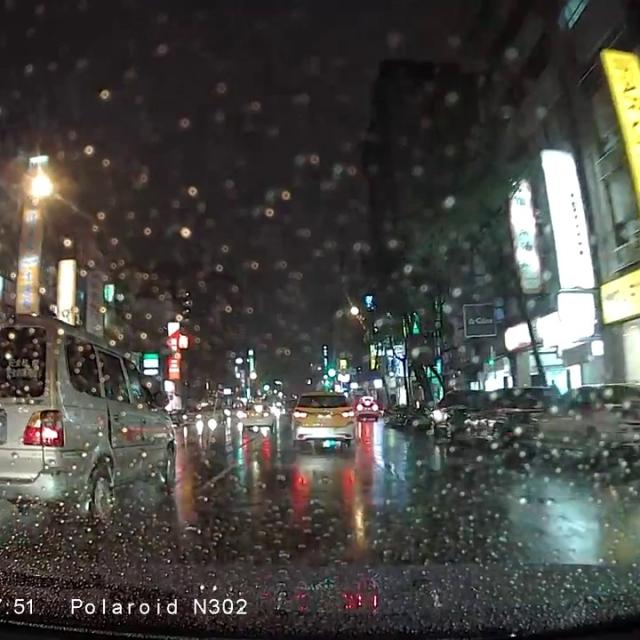Car: (0, 312, 182, 522), (505, 377, 639, 482), (448, 386, 559, 456), (286, 388, 362, 447), (419, 384, 491, 444), (233, 401, 279, 435), (357, 395, 379, 419)
